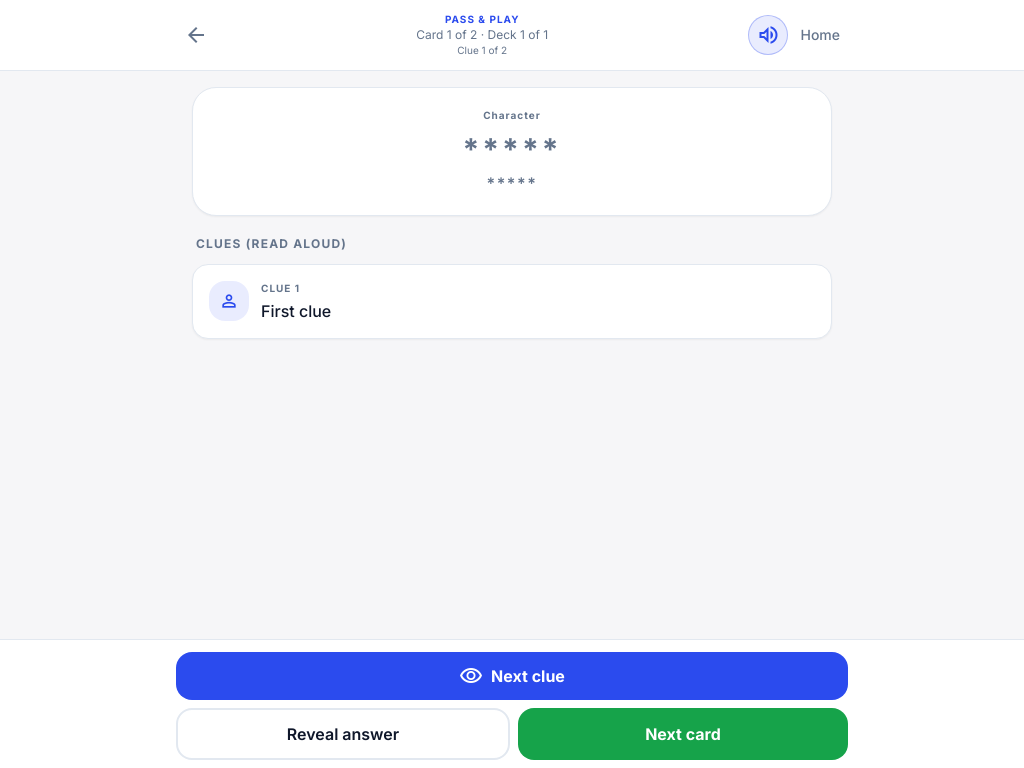
Scenario: PlayCards › masks the character until reveal answer, then advances deck
expect the text "First clue" is shown: met, box [261,301,331,321]
expect the text "Moses" is not shown: met
Click the button "Reveal answer".
click(343, 734)  # box [176,708,510,760]
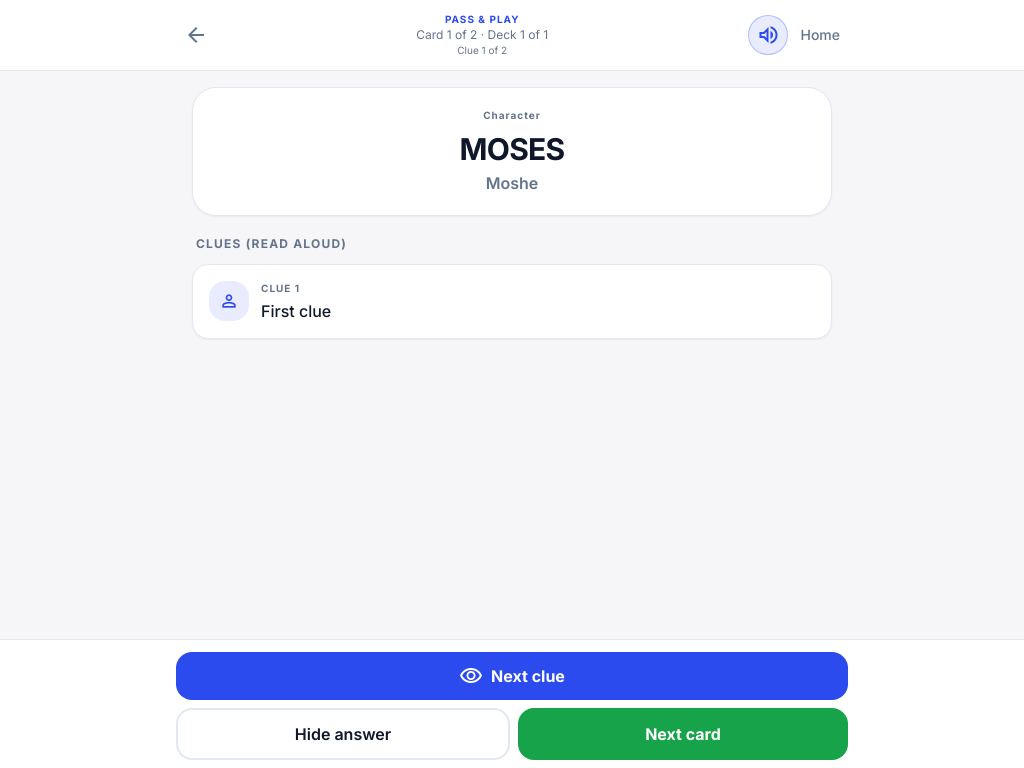
expect the text "Moses" is shown: met, box [460,131,564,167]
Click the button "Next card".
click(683, 734)  # box [518,708,848,760]
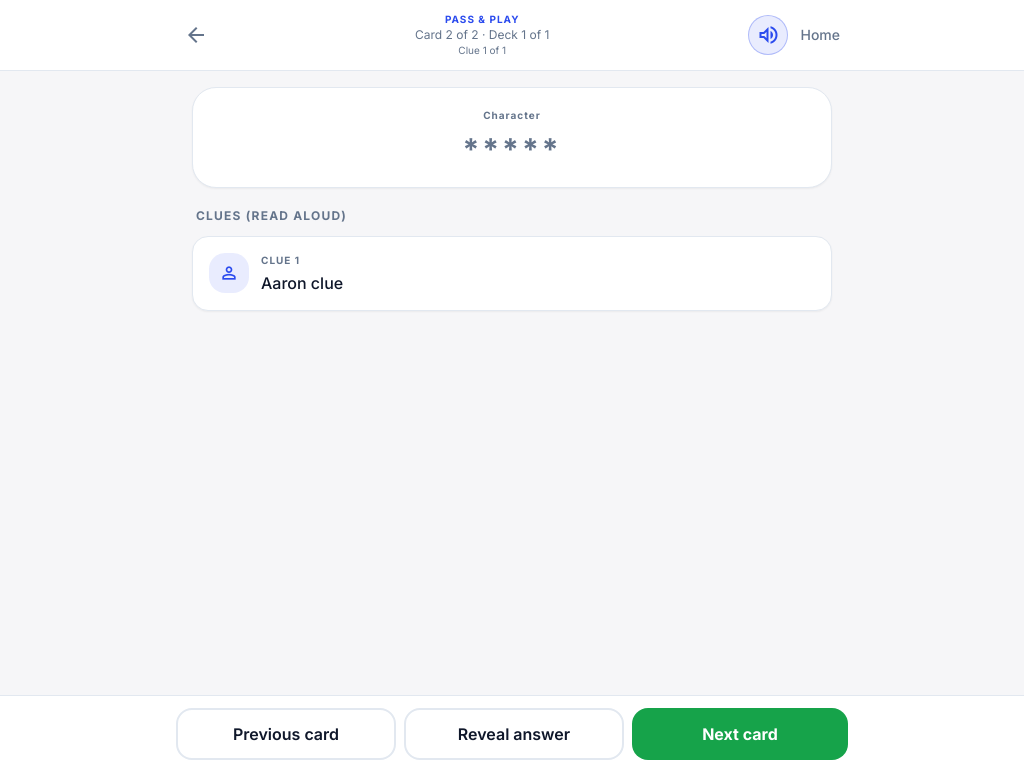
expect the button "Next card" is shown: met, box [632,708,848,760]
expect the text "Aaron clue" is shown: met, box [261,273,343,293]
